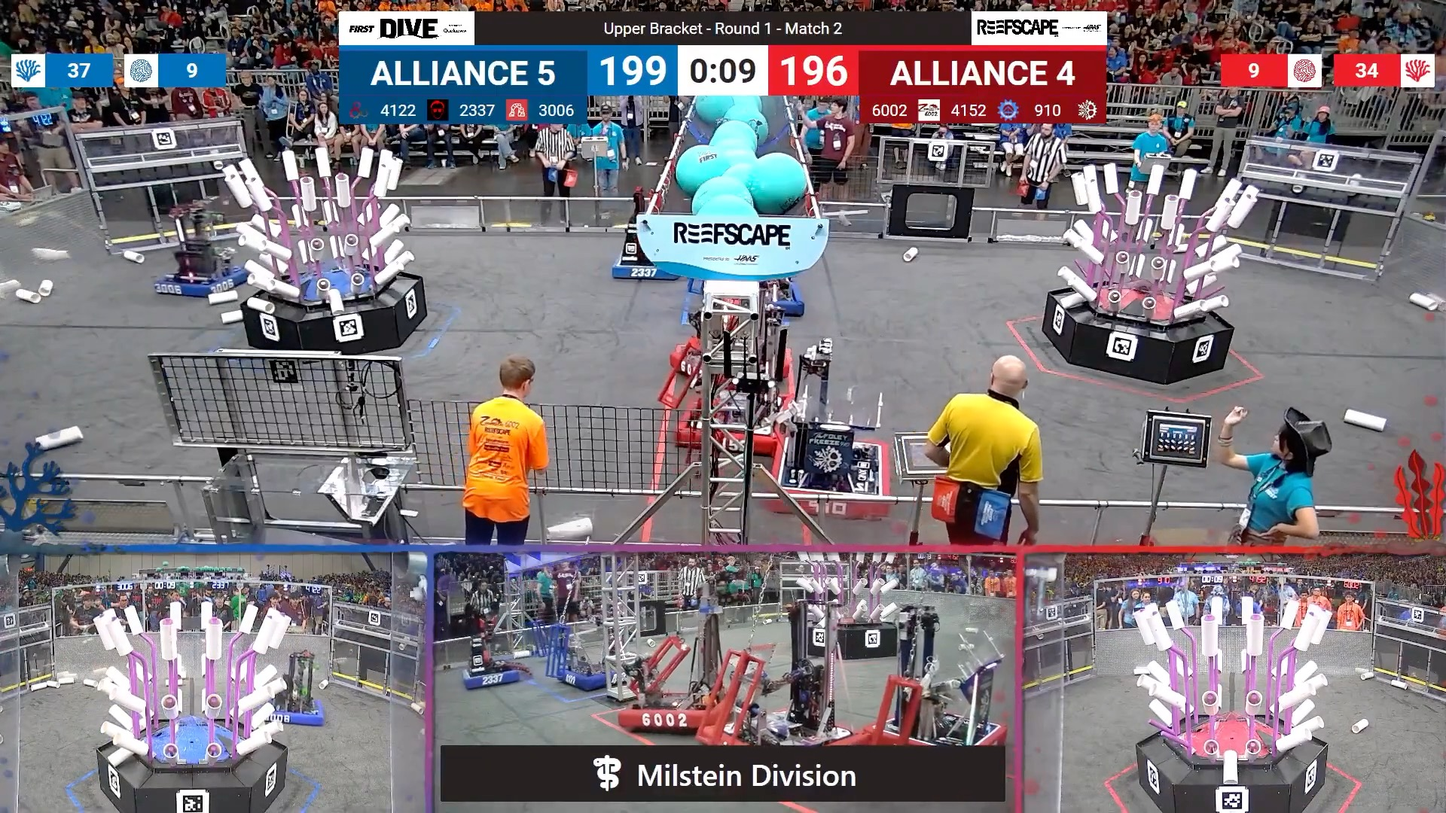bumpers: (767, 440, 897, 524), (149, 259, 260, 302), (612, 693, 730, 729), (260, 693, 331, 729), (455, 662, 527, 693), (605, 251, 679, 281), (550, 665, 621, 690)
